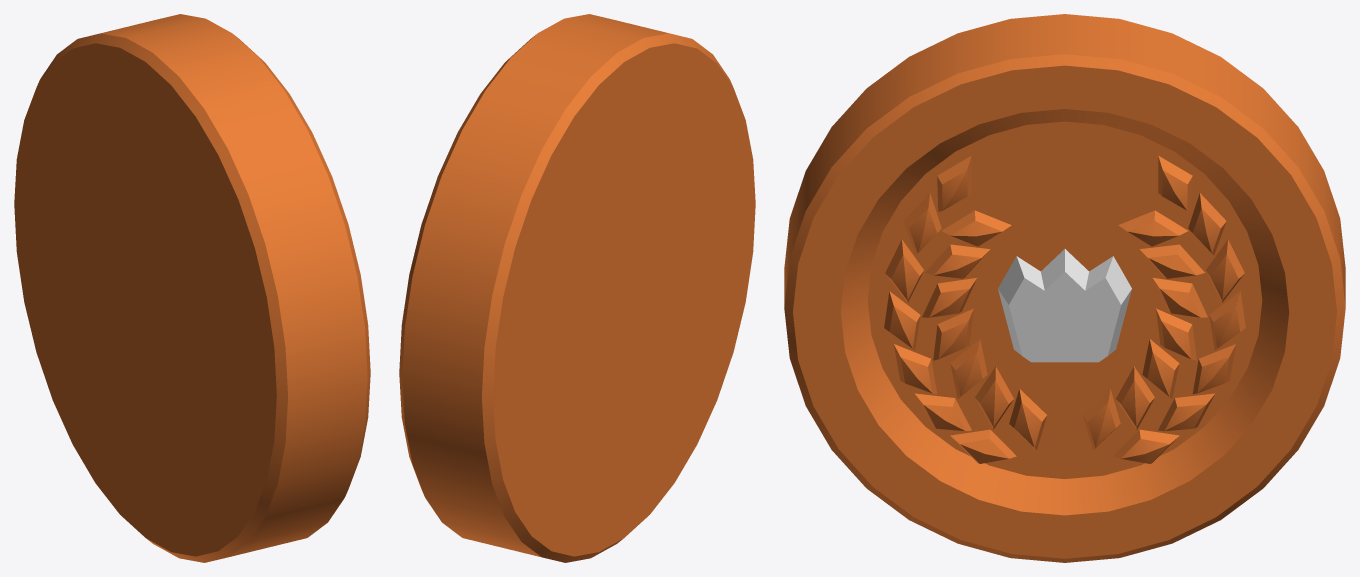
File: goldmedal.fbx
3 views of the same model, side by side, from view 1: azimuth 30°, elevation 25°; view 2: azimuth 150°, elevation 25°; view 3: azimuth 270°, elevation 25° (orthographic). The views are drawn at different scales.
Parts seen in each view (by area): view 1: GoldMedal; view 2: GoldMedal; view 3: GoldMedal.
Part boxes in pixels (bbox=[...]): GoldMedal: bbox=[14, 14, 370, 562]; GoldMedal: bbox=[399, 14, 755, 562]; GoldMedal: bbox=[784, 14, 1345, 562].
Bounding box in the file's own units: 40.93 × 200 × 200.
